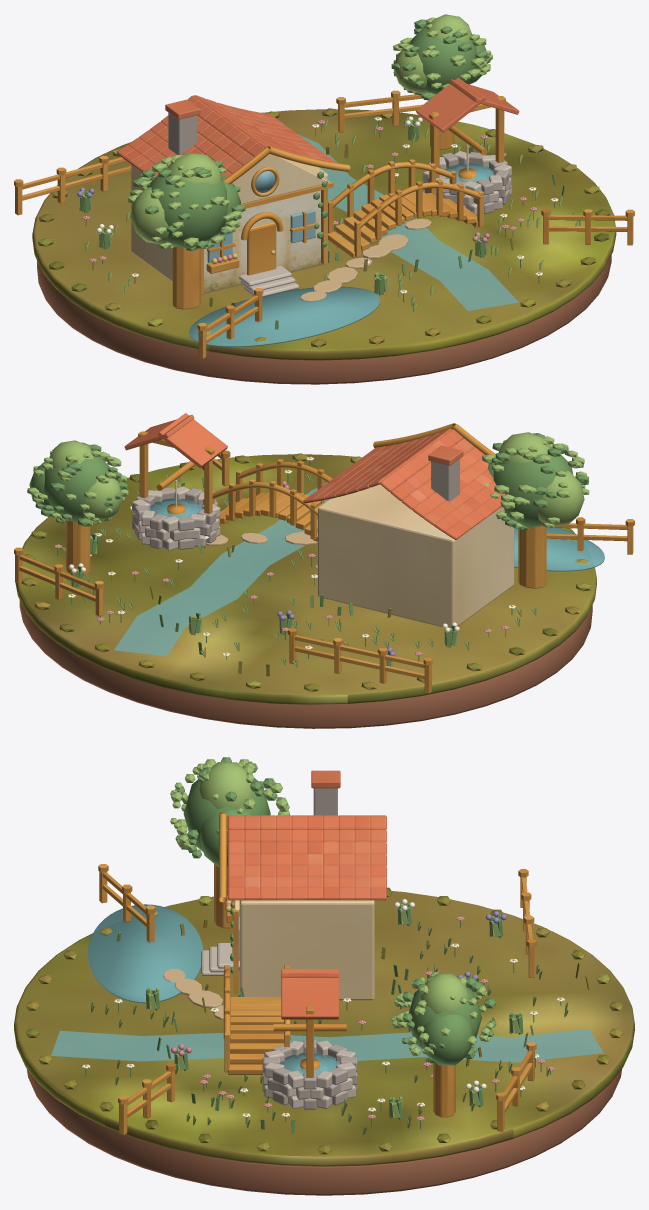
Rendered from cozy-village-detail.glb.
The picture shows the model from 3 angles, top to bottom: view 1: azimuth 30°, elevation 25°; view 2: azimuth 150°, elevation 25°; view 3: azimuth 270°, elevation 25°; orthographic projection. The views are drawn at different scales.
Visible parts, largest first — view 1: Island_Grass.001, Island_Soil.001, PuddleReflection.001, Cottage_Walls.001, Stream_Water.001, Tree_0_Crown_0, Tree_1_Crown_0, Cottage_Gable.001, Well_Roof_-1.001, Tree_0_Trunk.001, Door.001, Tree_0_Crown_1 (+15 smaller); view 2: Island_Grass.001, Cottage_Walls.001, Island_Soil.001, Stream_Water.001, Tree_0_Crown_0, Tree_1_Crown_0, PuddleReflection.001, Well_Roof_-1.001, Tree_0_Trunk.001, Tree_0_Crown_1, Tree_1_Trunk.001, Tree_1_Crown_1 (+15 smaller); view 3: Island_Grass.001, Island_Soil.001, Cottage_Walls.001, Stream_Water.001, PuddleReflection.001, Well_Roof_1.001, Tree_1_Crown_2, Tree_0_Crown_3, Tree_0_Crown_0, Tree_1_Crown_3, Tree_1_Trunk.001, Tree_1_Crown_0 (+4 smaller).
Part boxes in pixels (<box>): Island_Grass.001: <box>32,109,616,360</box>; Island_Soil.001: <box>37,255,611,384</box>; PuddleReflection.001: <box>189,286,380,346</box>; Cottage_Walls.001: <box>131,159,327,294</box>; Stream_Water.001: <box>298,134,518,310</box>; Tree_0_Crown_0: <box>147,167,227,248</box>; Tree_1_Crown_0: <box>409,27,476,94</box>; Cottage_Gable.001: <box>232,154,330,204</box>; Well_Roof_-1.001: <box>416,77,485,132</box>; Tree_0_Trunk.001: <box>172,246,200,309</box>; Door.001: <box>247,222,276,275</box>; Tree_0_Crown_1: <box>130,187,168,243</box>; Island_Grass.001: <box>15,454,596,704</box>; Cottage_Walls.001: <box>318,484,514,627</box>; Island_Soil.001: <box>19,600,592,728</box>; Stream_Water.001: <box>114,482,328,656</box>; Tree_0_Crown_0: <box>493,447,573,527</box>; Tree_1_Crown_0: <box>44,456,109,522</box>; PuddleReflection.001: <box>514,527,604,571</box>; Well_Roof_-1.001: <box>158,413,227,468</box>; Tree_0_Trunk.001: <box>518,526,546,588</box>; Tree_0_Crown_1: <box>538,471,584,526</box>; Tree_1_Trunk.001: <box>66,520,90,575</box>; Tree_1_Crown_1: <box>83,475,122,520</box>; Island_Grass.001: <box>14,891,634,1166</box>; Island_Soil.001: <box>27,1069,621,1195</box>; Cottage_Walls.001: <box>240,900,374,1000</box>; Stream_Water.001: <box>51,1028,603,1062</box>; PuddleReflection.001: <box>88,904,202,1003</box>; Well_Roof_1.001: <box>281,969,338,1019</box>; Tree_1_Crown_2: <box>422,1015,474,1065</box>; Tree_0_Crown_3: <box>199,762,254,809</box>; Tree_0_Crown_0: <box>183,778,270,851</box>; Tree_1_Crown_3: <box>421,973,468,1014</box>; Tree_1_Trunk.001: <box>433,1063,455,1117</box>; Tree_1_Crown_0: <box>408,987,481,1049</box>.
Size of the model in its own units: 22.35 by 8.19 by 21.7.
Materials: 23 (9 with a texture image).
